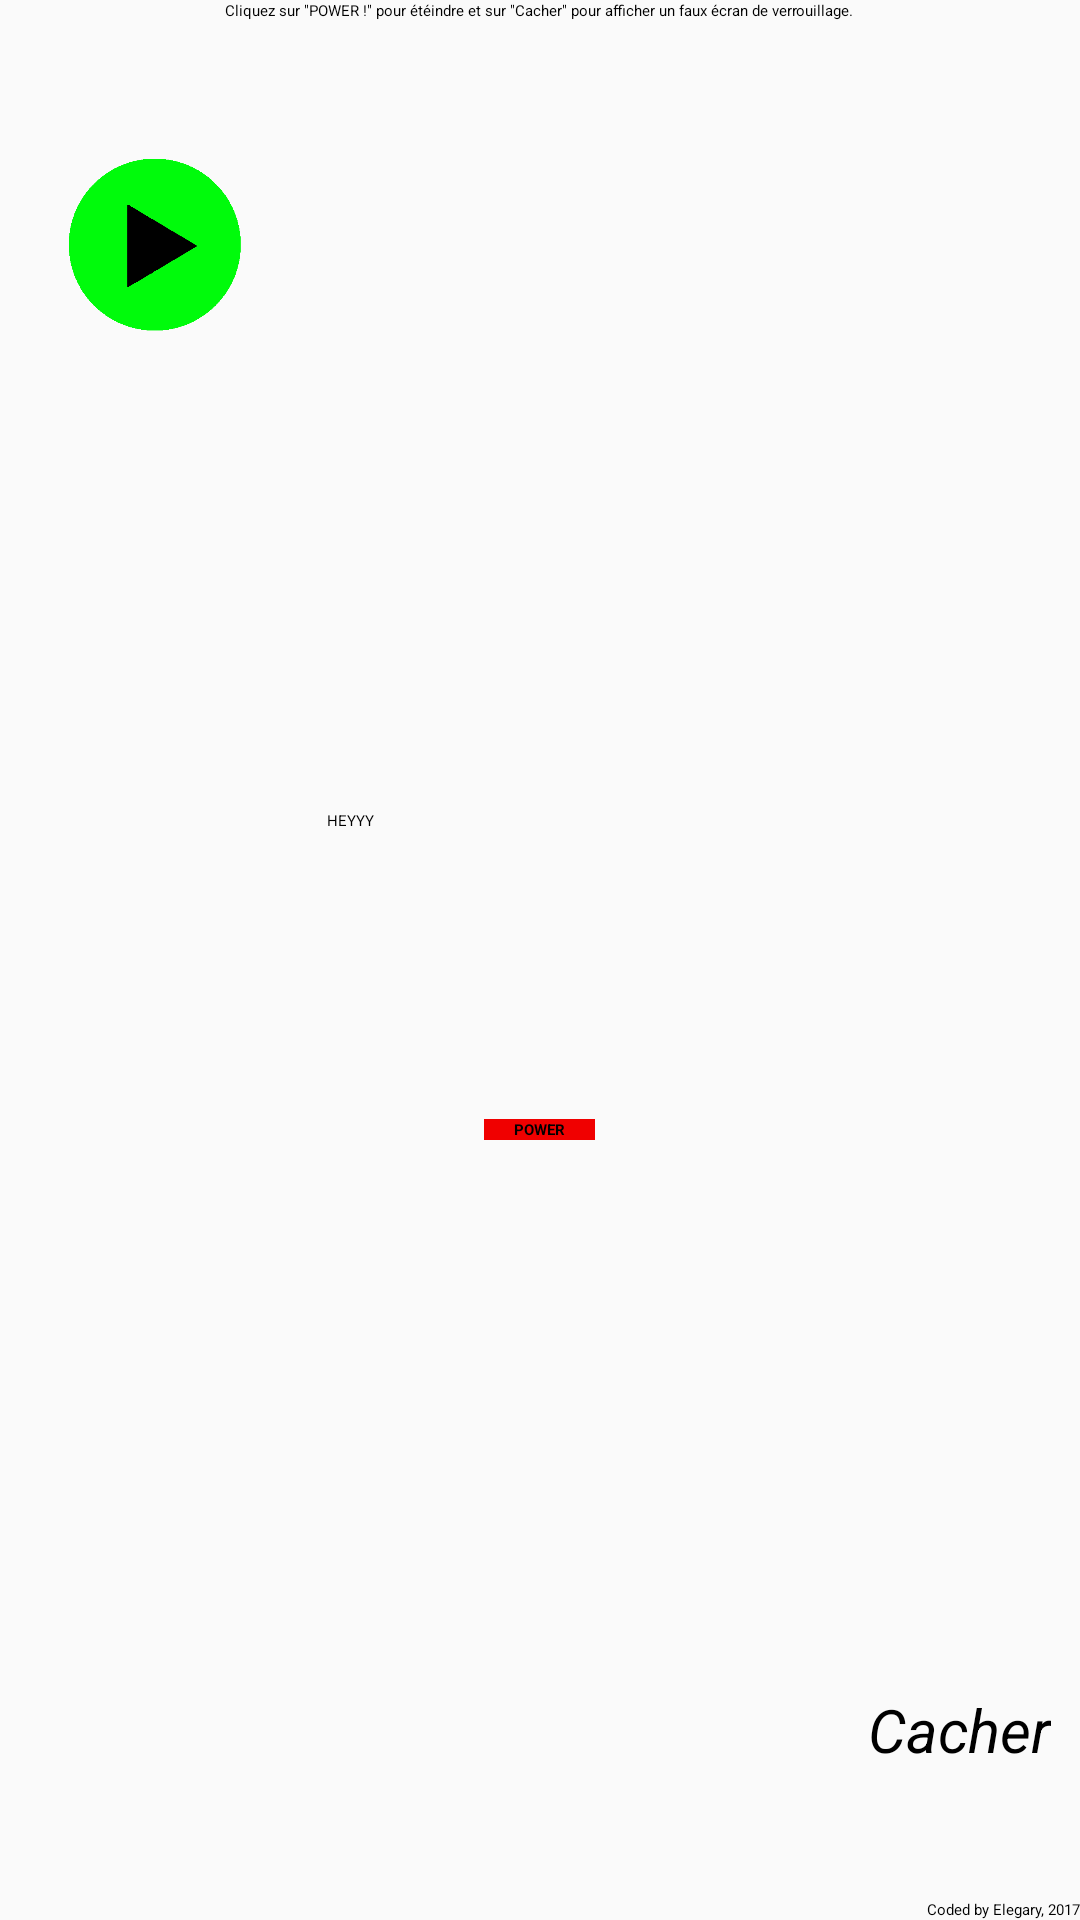

Screen size 1080x1920. Icon name, then its center in pixels as (x,y):
play repetitive: (155,245)
